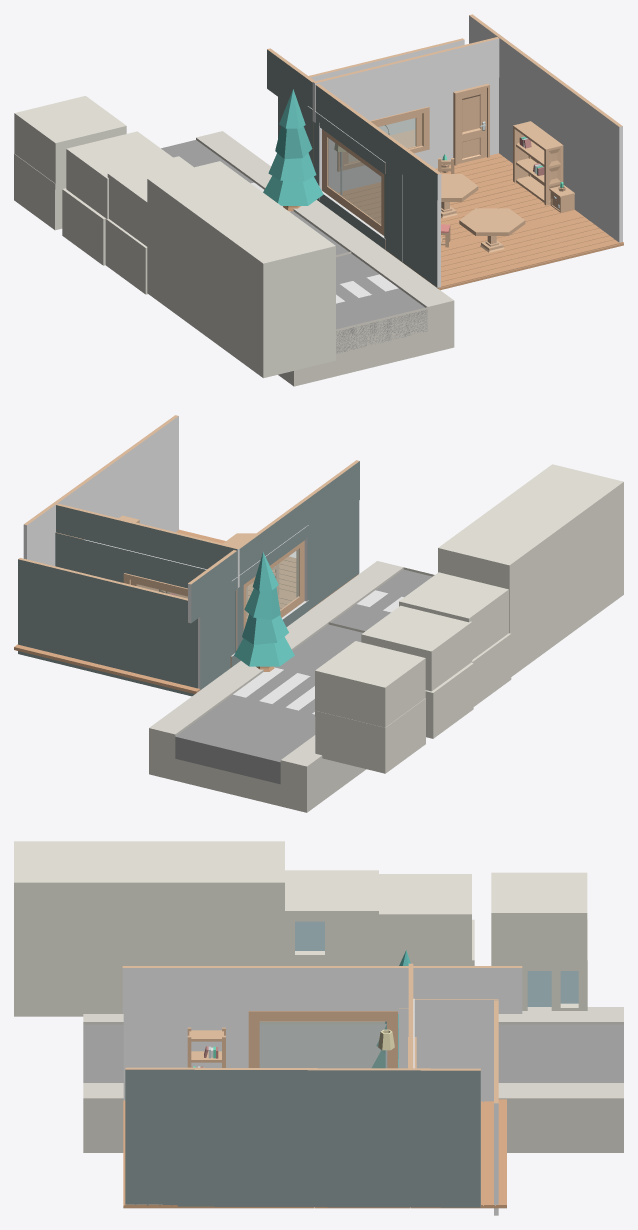
Rendered from scene_structure.glb.
The picture shows the model from 3 angles, top to bottom: view 1: azimuth 30°, elevation 25°; view 2: azimuth 150°, elevation 25°; view 3: azimuth 270°, elevation 25°; orthographic projection. The views are drawn at different scales.
Visible parts, largest first — view 1: Mesh1_Group1_Model (×9), Mesh_wall_1 (×4), cabinFloor (×3), Mesh_wall_2 (×4), Mesh_wallWindow_2, Mesh_treePine_1, Mesh_window (×2), bookcaseClosedWide(Clone), tableRound(Clone) (×2), Mesh_door, Mesh_window_1, Mesh_wall (×2) (+2 smaller); view 2: Mesh1_Group1_Model (×9), Mesh_wall_2 (×7), Mesh_wall_1, Mesh_treePine_1, Mesh_wallWindow_1, cabinFloor (×2), Mesh_wall (×2), Mesh_window, Mesh_window_1; view 3: Mesh1_Group1_Model (×7), Mesh_wall_2, Mesh_wall_1 (×6), Mesh_window, cabinFloor (×2), Mesh_wall (×4), Mesh_window_1, bookcaseOpen(Clone).
Boxes of the visible parts, bbox=[...] form: Mesh1_Group1_Model (×9): bbox=[14, 96, 454, 386]; Mesh_wall_1 (×4): bbox=[310, 15, 622, 242]; cabinFloor (×3): bbox=[338, 153, 623, 290]; Mesh_wall_2 (×4): bbox=[267, 49, 437, 287]; Mesh_wallWindow_2: bbox=[328, 85, 469, 192]; Mesh_treePine_1: bbox=[263, 89, 323, 205]; Mesh_window (×2): bbox=[327, 118, 415, 224]; bookcaseClosedWide(Clone): bbox=[513, 121, 563, 205]; tableRound(Clone) (×2): bbox=[441, 174, 525, 252]; Mesh_door: bbox=[457, 88, 486, 163]; Mesh_window_1: bbox=[322, 129, 384, 235]; Mesh_wall (×2): bbox=[267, 14, 622, 174]; Mesh1_Group1_Model (×9): bbox=[149, 464, 623, 812]; Mesh_wall_2 (×7): bbox=[18, 461, 359, 696]; Mesh_wall_1: bbox=[23, 416, 178, 565]; Mesh_treePine_1: bbox=[234, 552, 294, 666]; Mesh_wallWindow_1: bbox=[84, 540, 236, 651]; cabinFloor (×2): bbox=[14, 529, 358, 693]; Mesh_wall (×2): bbox=[24, 415, 359, 584]; Mesh_window: bbox=[246, 549, 299, 621]; Mesh_window_1: bbox=[243, 540, 304, 630]; Mesh1_Group1_Model (×7): bbox=[14, 841, 623, 1152]; Mesh_wall_2: bbox=[125, 1069, 480, 1207]; Mesh_wall_1 (×6): bbox=[122, 968, 522, 1215]; Mesh_window: bbox=[259, 1021, 386, 1068]; cabinFloor (×2): bbox=[123, 1099, 506, 1208]; Mesh_wall (×4): bbox=[122, 963, 522, 1103]; Mesh_window_1: bbox=[248, 1011, 397, 1068]; bookcaseOpen(Clone): bbox=[187, 1027, 225, 1067].
Size of the model in its own units: 5.8 by 2.19 by 6.35.
